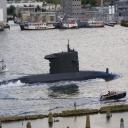submarine: (1, 50, 122, 87)
